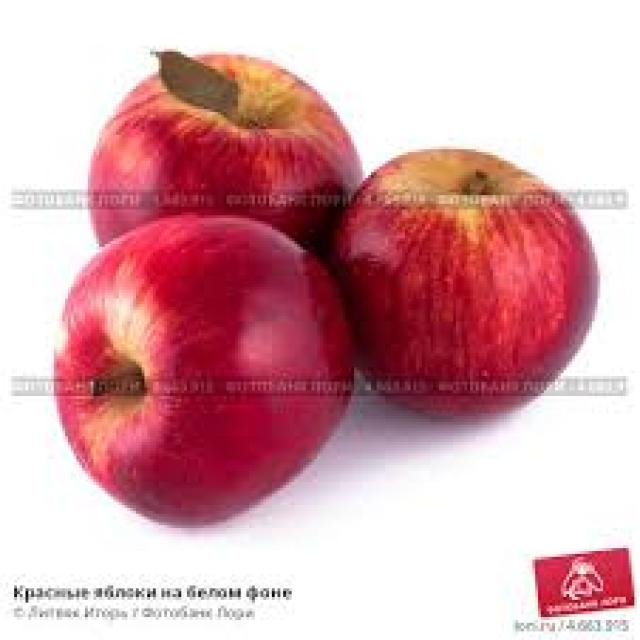non_orange: (6, 191, 392, 512), (302, 87, 608, 431), (52, 38, 392, 330)
